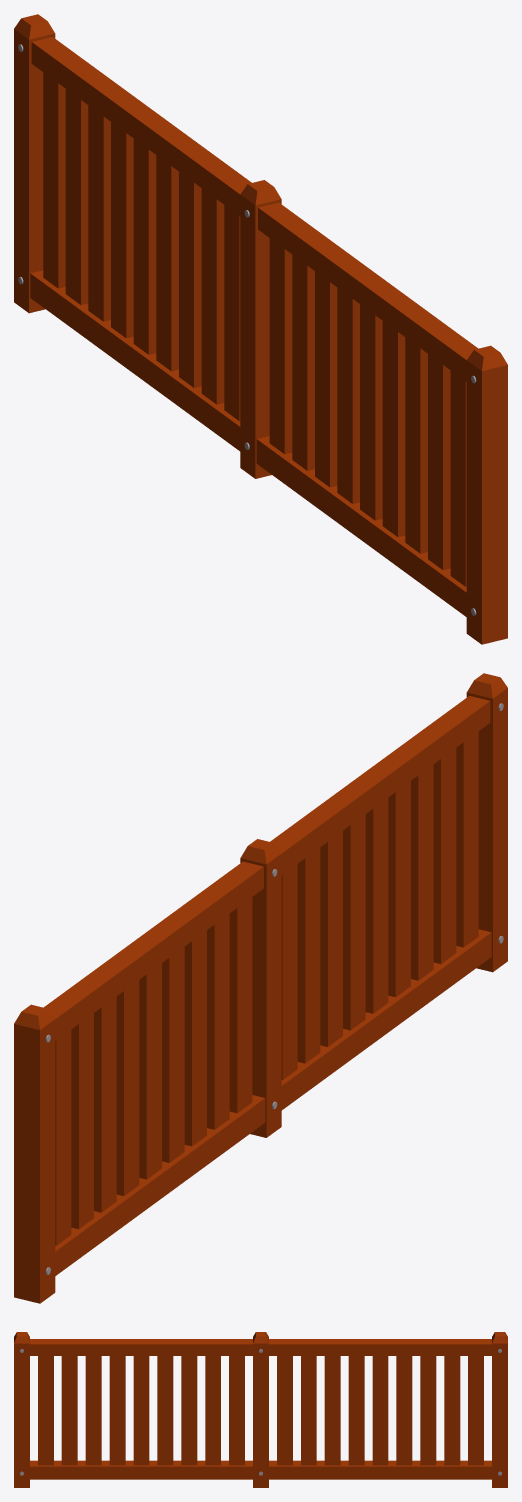
File: hek.glb
3 renders of one model, top to bottom at view 1: azimuth 30°, elevation 25°; view 2: azimuth 150°, elevation 25°; view 3: azimuth 270°, elevation 25°, orthographic. The views are drawn at different scales.
Parts seen in each view (by area): view 1: Cube.022; view 2: Cube.022; view 3: Cube.022.
Boxes of the visible parts, x1=… form: Cube.022: x1=14, y1=14, x2=507, y2=644; Cube.022: x1=14, y1=673, x2=507, y2=1303; Cube.022: x1=14, y1=1332, x2=507, y2=1487.
Size of the model in its own units: 0.44 by 4.16 by 12.4.
